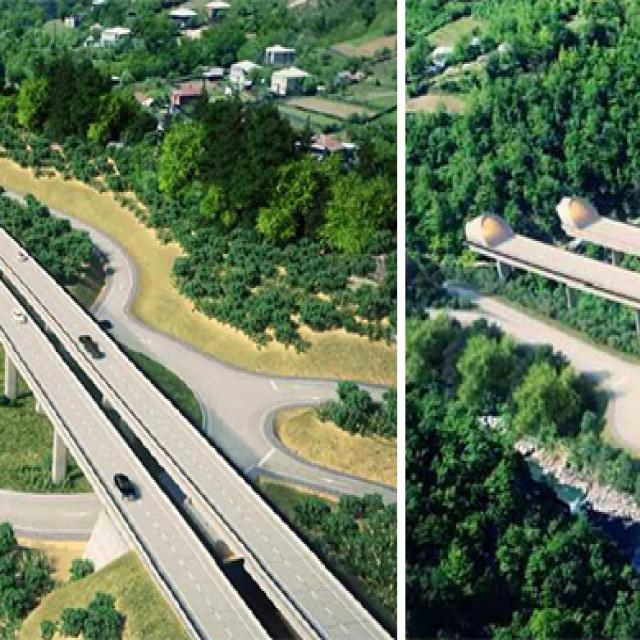Clean road: (0, 265, 454, 640)
